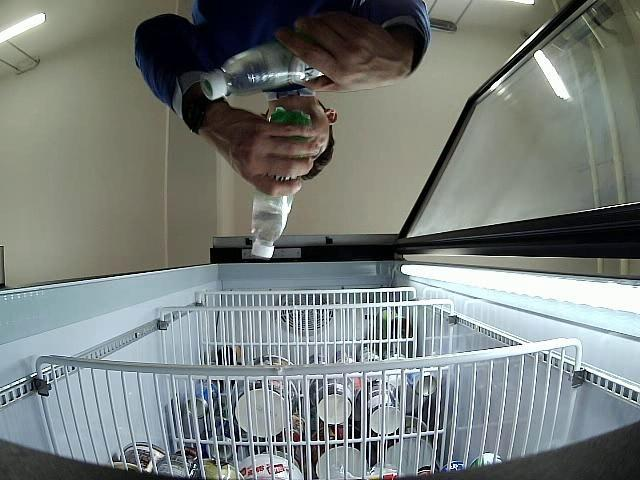18_trevi: (250, 107, 312, 257), (201, 42, 325, 100)
